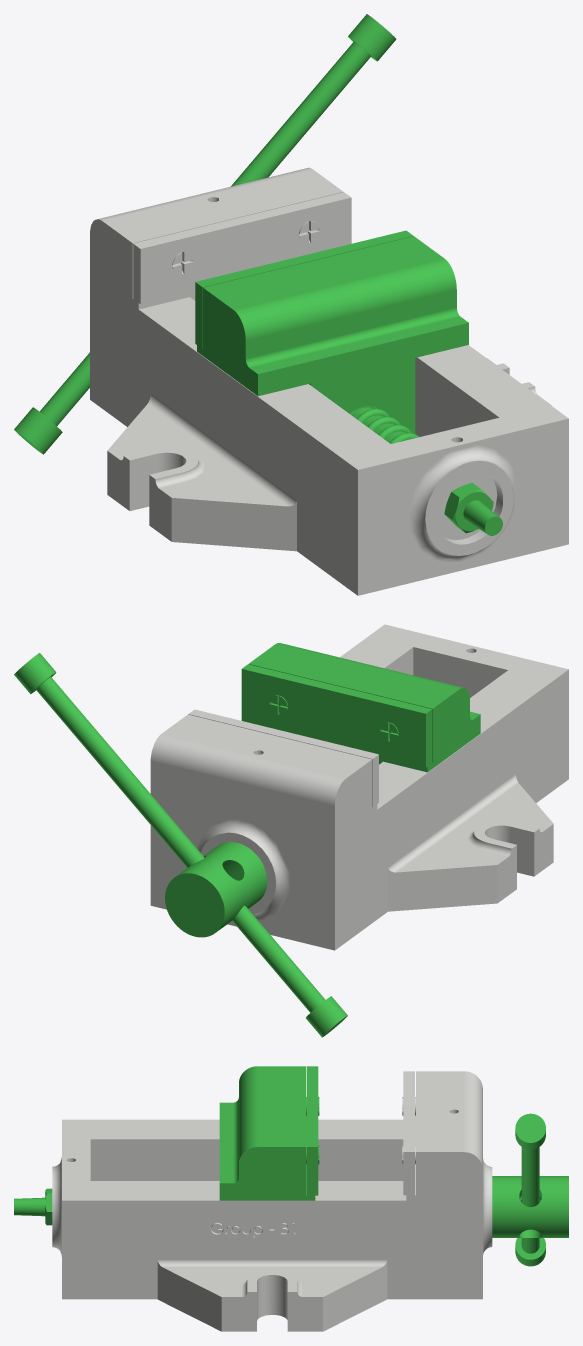
The model's file is vice.glb.
3 views of the same model, one above another, from view 1: azimuth 30°, elevation 25°; view 2: azimuth 150°, elevation 25°; view 3: azimuth 270°, elevation 25° (orthographic). The views are drawn at different scales.
Parts seen in each view (by area): view 1: NAUO1, NAUO2, NAUO4, NAUO3, NAUO5, NAUO7, NAUO6; view 2: NAUO1, NAUO2, NAUO4, NAUO3, NAUO5, NAUO6; view 3: NAUO1, NAUO2, NAUO3, NAUO4, NAUO6, NAUO5.
Boxes of the visible parts, left/top/right/bottom form: NAUO1: left=90, top=167, right=568, bottom=595; NAUO2: left=195, top=230, right=468, bottom=433; NAUO4: left=39, top=41, right=371, bottom=425; NAUO3: left=350, top=406, right=502, bottom=535; NAUO5: left=14, top=407, right=62, bottom=454; NAUO7: left=444, top=482, right=493, bottom=533; NAUO6: left=348, top=14, right=396, bottom=61; NAUO1: left=150, top=624, right=568, bottom=950; NAUO2: left=241, top=643, right=480, bottom=772; NAUO4: left=36, top=677, right=325, bottom=1012; NAUO3: left=165, top=842, right=267, bottom=937; NAUO5: left=306, top=996, right=347, bottom=1037; NAUO6: left=14, top=653, right=56, bottom=694; NAUO1: left=52, top=1071, right=492, bottom=1331; NAUO2: left=219, top=1066, right=319, bottom=1200; NAUO3: left=14, top=1176, right=568, bottom=1237; NAUO4: left=521, top=1147, right=539, bottom=1253; NAUO6: left=515, top=1113, right=545, bottom=1149; NAUO5: left=515, top=1238, right=545, bottom=1266.
Size of the model in its own units: 0.198 by 0.161 by 0.29.
